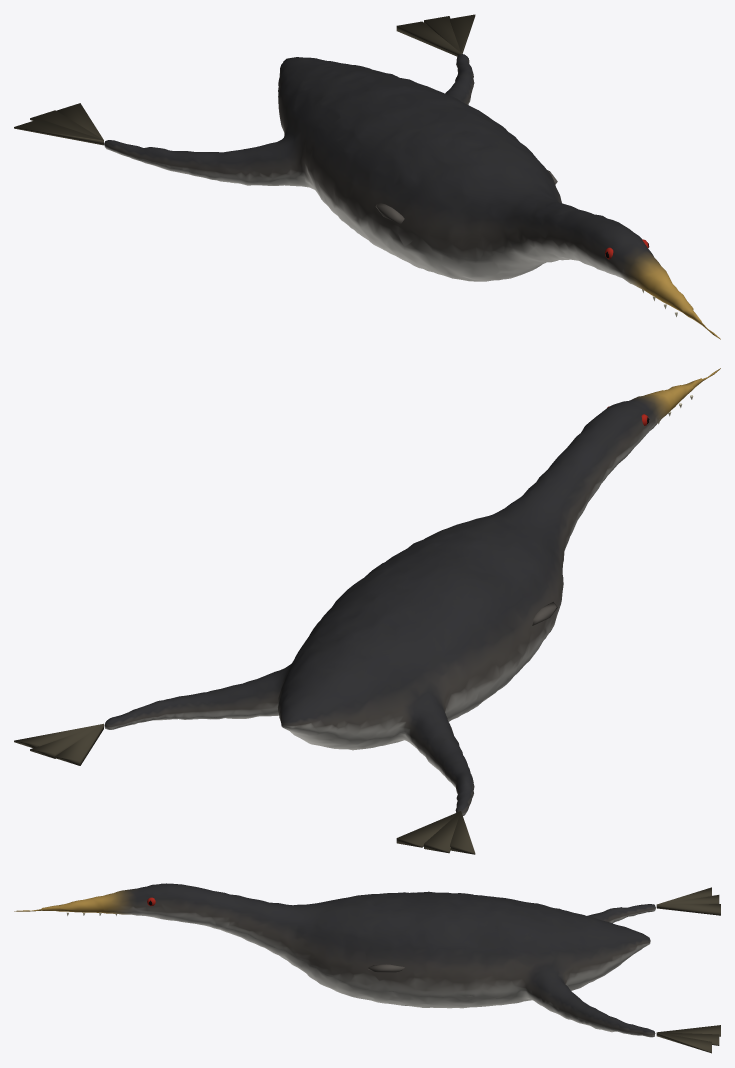
Rendered from Hesperornis.fbx.
The picture shows the model from 3 angles, top to bottom: view 1: azimuth 30°, elevation 25°; view 2: azimuth 150°, elevation 25°; view 3: azimuth 270°, elevation 25°; orthographic projection. The views are drawn at different scales.
Parts seen in each view (by area): view 1: Hesperornis; view 2: Hesperornis; view 3: Hesperornis.
Part boxes in pixels (x1=…): Hesperornis: x1=14, y1=14, x2=720, y2=339; Hesperornis: x1=14, y1=368, x2=720, y2=854; Hesperornis: x1=14, y1=883, x2=720, y2=1053.
Size of the model in its own units: 0.7235 by 0.2335 by 1.31.
